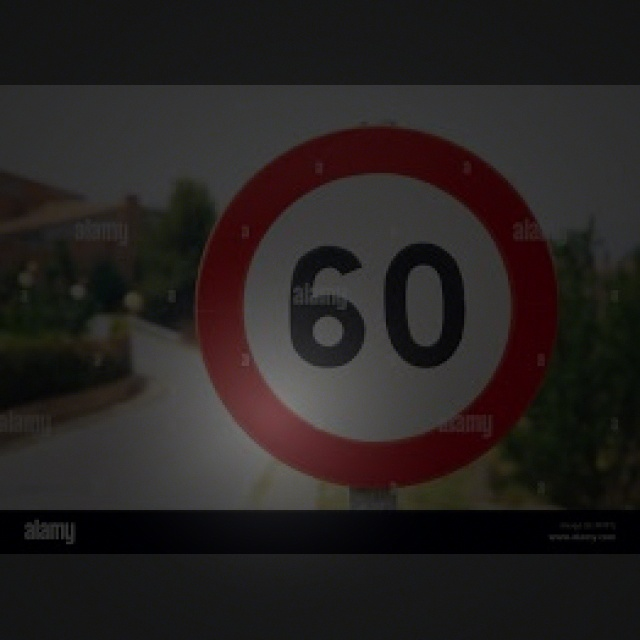Speed_Limit_60: (201, 128, 555, 474)
